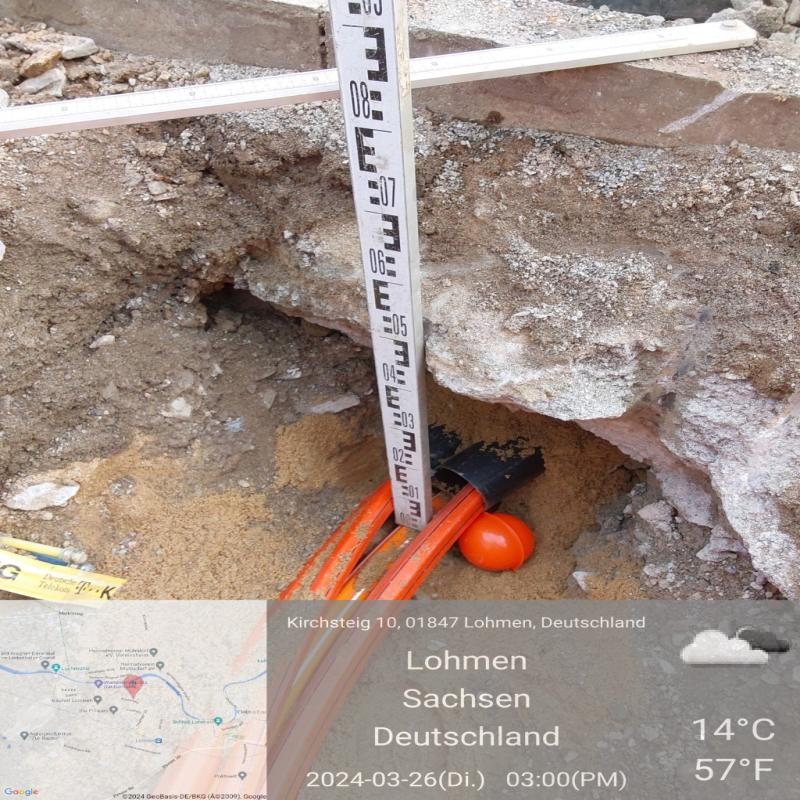Kugelmarker: (460, 513, 533, 570)
Orang-Speednetrohrchen: (279, 479, 486, 602)
